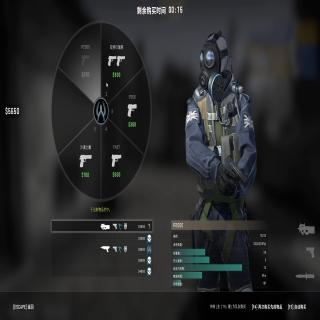CT-Body: (186, 28, 258, 218)
CT-Head: (200, 30, 230, 95)
